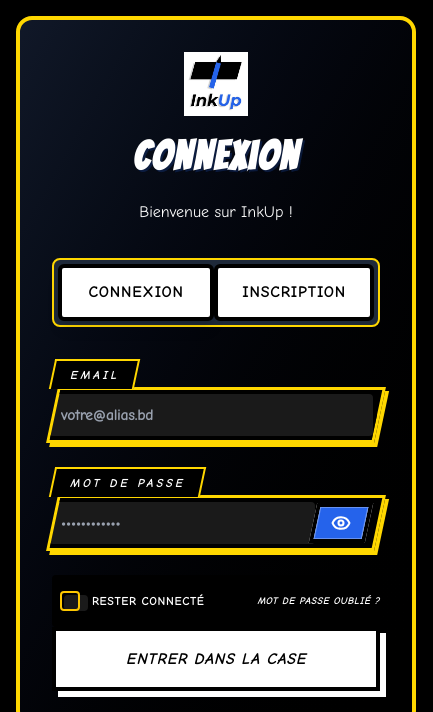
Test: LoginScreen - Critical Path: Authentication › Form Validation › should display error when email is empty
Click the button "Entrer dans la Case": x=216, y=659 [52,627,380,691]
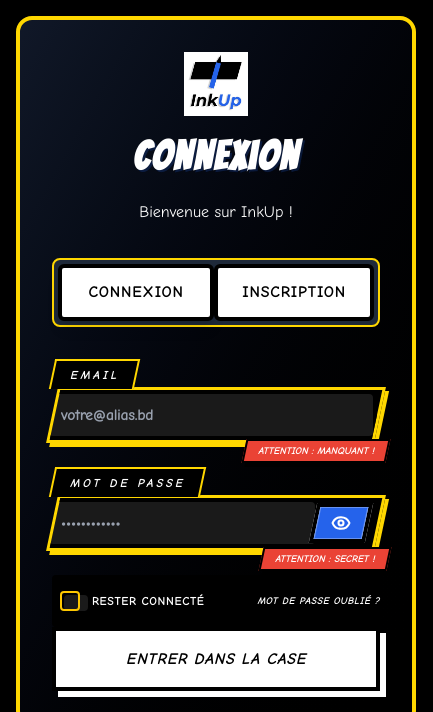
Expected: the text "Attention : Manquant !" is shown, [258,443,374,459]
